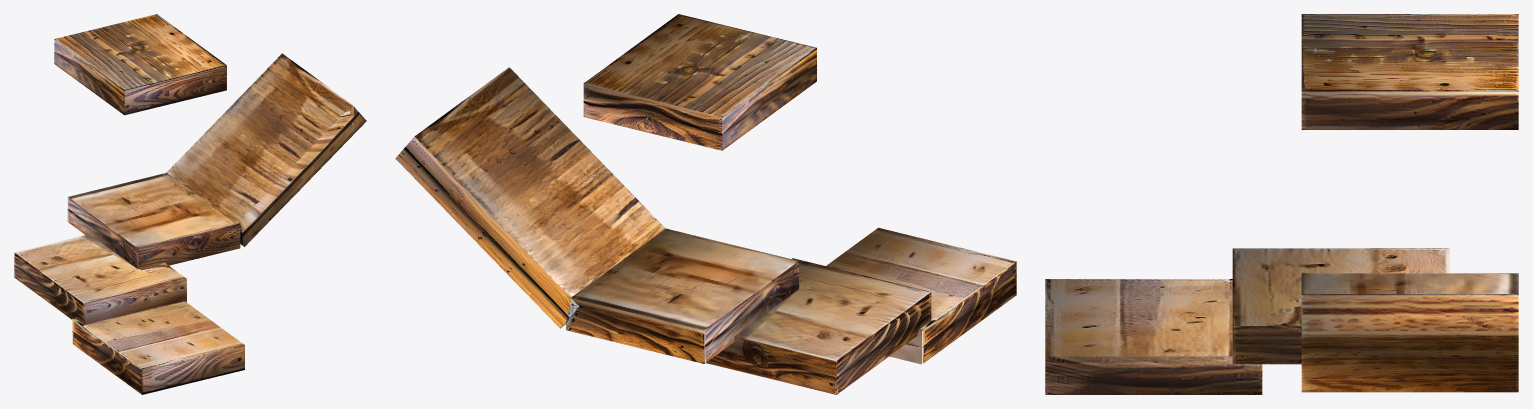
Rendered from ramp1.glb.
3 views of the same model, side by side, from view 1: azimuth 30°, elevation 25°; view 2: azimuth 150°, elevation 25°; view 3: azimuth 270°, elevation 25° (orthographic). The views are drawn at different scales.
Bounding box in the file's own units: 5.57 × 3.95 × 4.8.
1 material, 1 textured.
